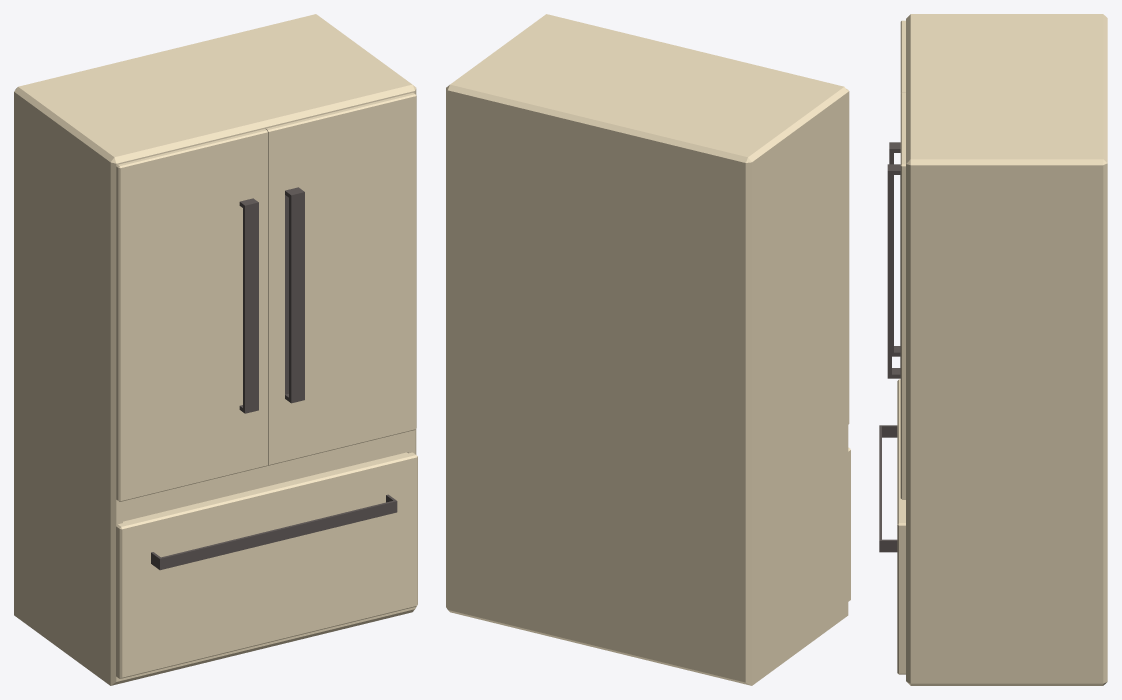
Rendered from FrenchFridge1.glb.
The picture shows the model from 3 angles, left to right: view 1: azimuth 30°, elevation 25°; view 2: azimuth 150°, elevation 25°; view 3: azimuth 270°, elevation 25°; orthographic projection.
Parts seen in each view (by area): view 1: FrenchFridge1, DoorRight1_FrenchFridge1, DoorLeft1_FrenchFridge1, Door2_FrenchFridge1; view 2: FrenchFridge1, DoorRight1_FrenchFridge1; view 3: FrenchFridge1, DoorLeft1_FrenchFridge1, Door2_FrenchFridge1, DoorRight1_FrenchFridge1.
Boxes of the visible parts, box(x1,y1,x2,y2) form: FrenchFridge1: box(14, 14, 416, 685); DoorRight1_FrenchFridge1: box(116, 129, 267, 501); DoorLeft1_FrenchFridge1: box(266, 93, 416, 465); Door2_FrenchFridge1: box(116, 452, 417, 678); FrenchFridge1: box(446, 14, 848, 685); DoorRight1_FrenchFridge1: box(846, 89, 849, 424); FrenchFridge1: box(906, 14, 1107, 685); DoorLeft1_FrenchFridge1: box(887, 92, 905, 499); Door2_FrenchFridge1: box(879, 379, 905, 674); DoorRight1_FrenchFridge1: box(889, 20, 905, 356).
Bounding box in the file's own units: 1.3 × 2.15 × 0.8452.
